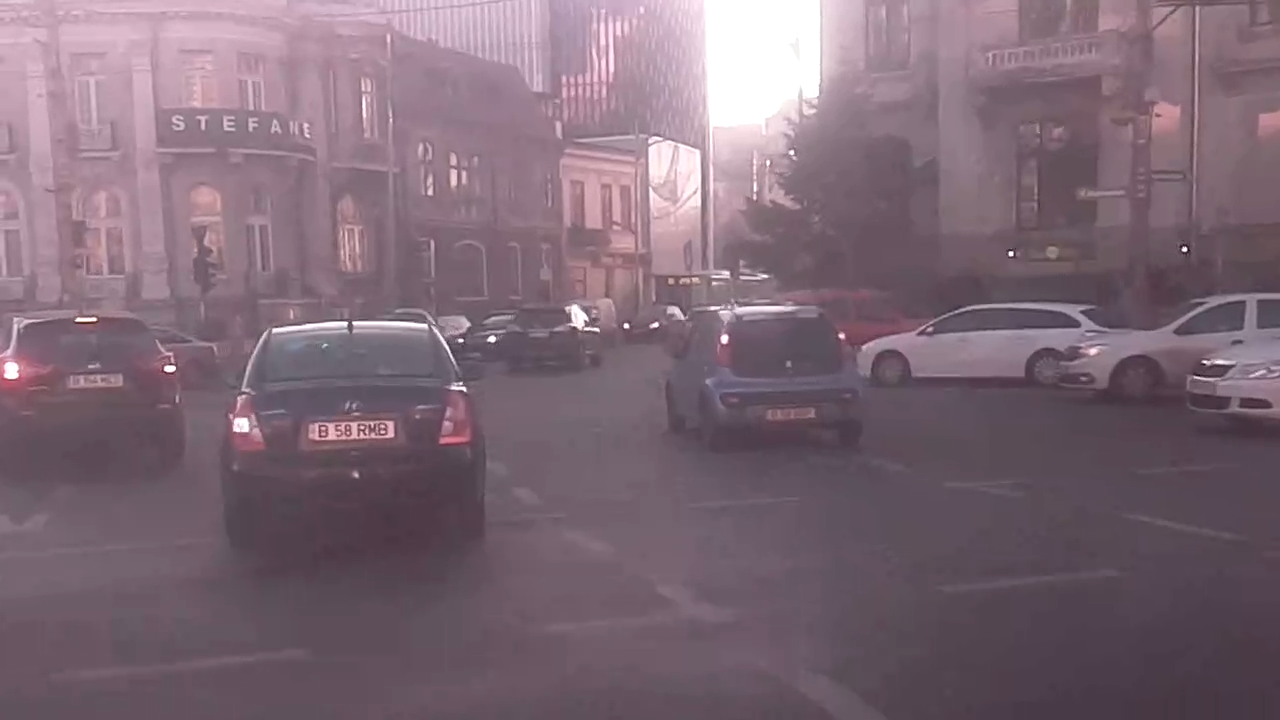license-plate: (305, 414, 397, 445)
